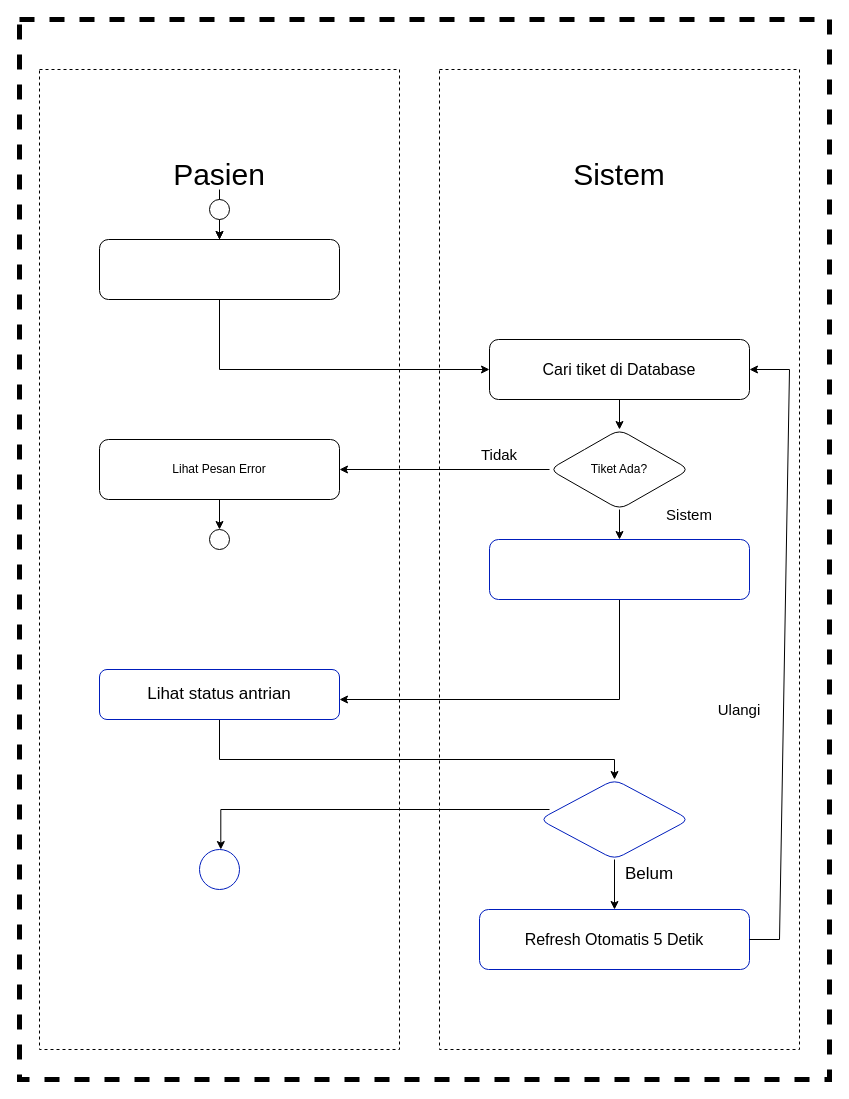
Image size: 849x1099. Some labels were removed from this diagram. The centre of each missing label's shape, as x and y in pixels:
Pindah QR atau Isi tiker: the point at 219,269
Selesai?: the point at 614,819
Tampilkan Posisi dan Status: the point at 619,569
